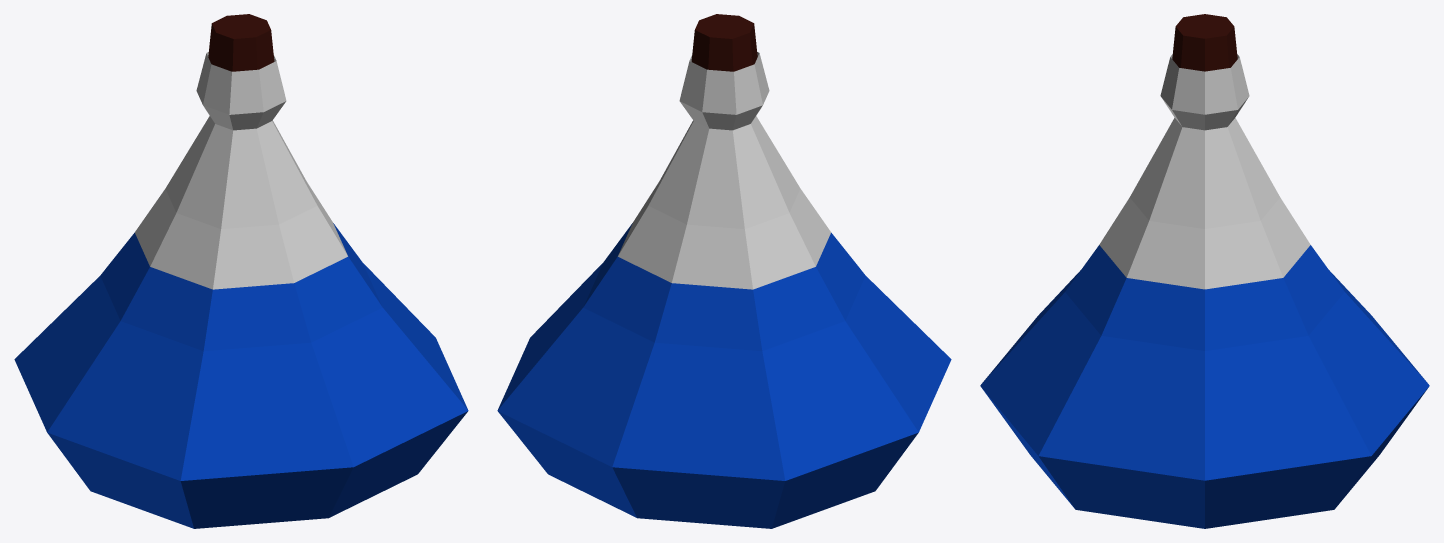
File: Pocion.obj
The picture shows the model from 3 angles, left to right: view 1: azimuth 30°, elevation 25°; view 2: azimuth 150°, elevation 25°; view 3: azimuth 270°, elevation 25°; orthographic projection.
Parts seen in each view (by area): view 1: Cube; view 2: Cube; view 3: Cube.
Part boxes in pixels (box(x1,y1,x2,y2)): Cube: box(14, 14, 468, 528); Cube: box(497, 14, 951, 528); Cube: box(980, 14, 1429, 528).
Size of the model in its own units: 3.48 by 3.66 by 3.48.
